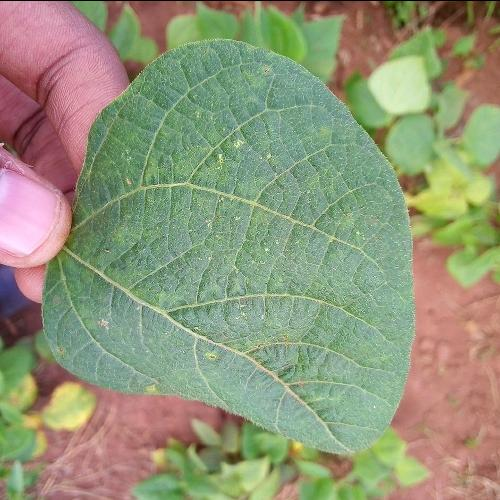mozaik: (186, 115, 334, 380), (111, 120, 171, 204), (238, 54, 288, 90), (139, 374, 160, 396)
